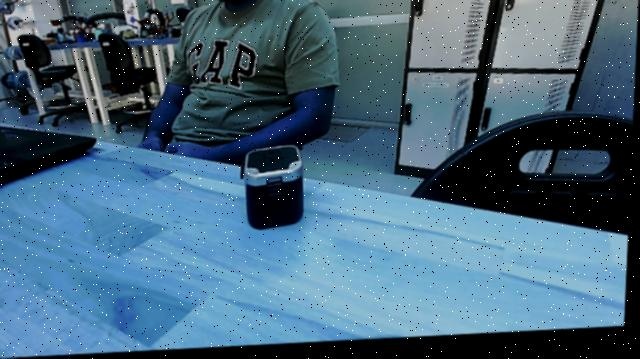adapter: (240, 145, 316, 241)
